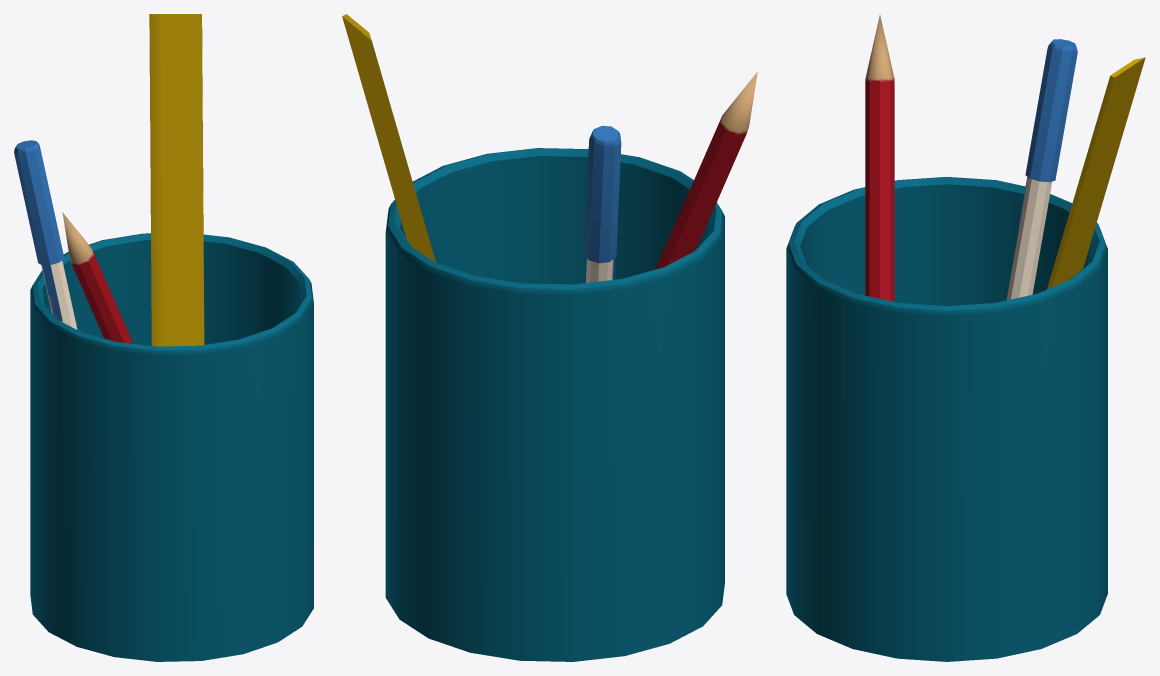
File: PancilCase.fbx
The picture shows the model from 3 angles, left to right: view 1: azimuth 30°, elevation 25°; view 2: azimuth 150°, elevation 25°; view 3: azimuth 270°, elevation 25°; orthographic projection. The views are drawn at different scales.
Visible parts, largest first — view 1: PancilCase; view 2: PancilCase; view 3: PancilCase.
Part boxes in pixels (x1,y1,x2,y2): PancilCase: [14, 14, 313, 661]; PancilCase: [342, 14, 757, 661]; PancilCase: [786, 15, 1145, 661].
Size of the model in its own units: 10.09 by 18.69 by 10.59.
1 material, 1 textured.
